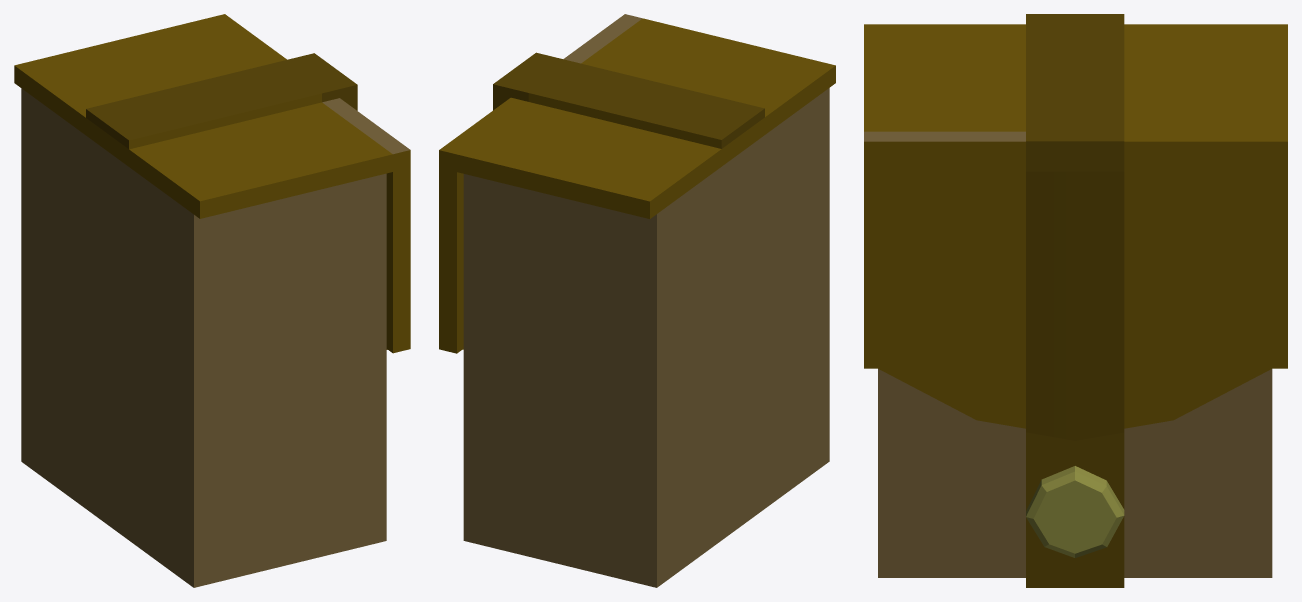
Rendered from AmmoPouch.fbx.
The picture shows the model from 3 angles, left to right: view 1: azimuth 30°, elevation 25°; view 2: azimuth 150°, elevation 25°; view 3: azimuth 270°, elevation 25°; orthographic projection. The views are drawn at different scales.
Visible parts, largest first — view 1: AmmoPouch; view 2: AmmoPouch; view 3: AmmoPouch.
Boxes of the visible parts, left/top/right/bottom form: AmmoPouch: left=14, top=14, right=410, bottom=587; AmmoPouch: left=439, top=14, right=835, bottom=587; AmmoPouch: left=864, top=14, right=1287, bottom=587.
Size of the model in its own units: 2.42 by 4.05 by 3.41.
